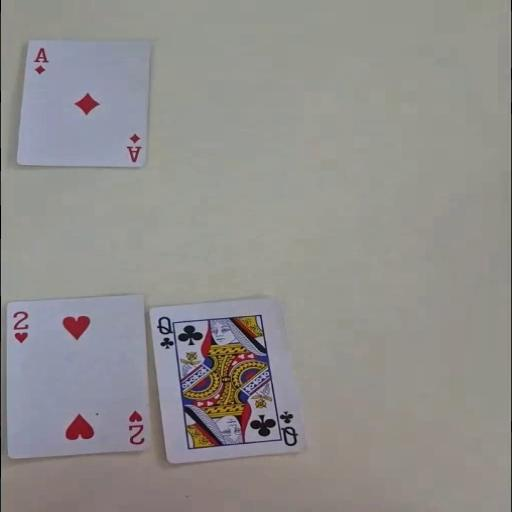2: (125, 407, 146, 446), (9, 309, 30, 344)
A: (122, 131, 142, 163), (30, 45, 50, 75)
Q: (275, 408, 299, 447), (154, 314, 176, 350)
